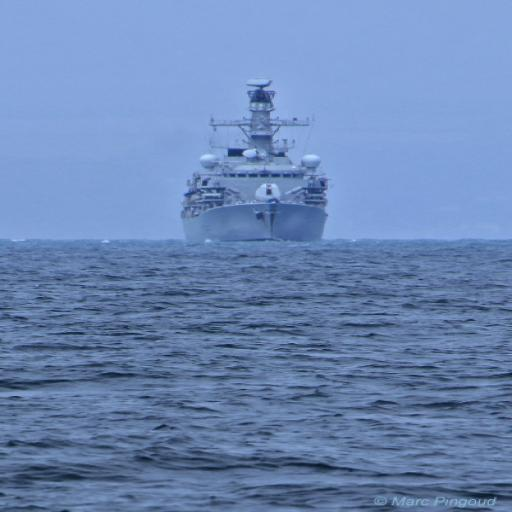Fragata: (178, 74, 347, 246)
